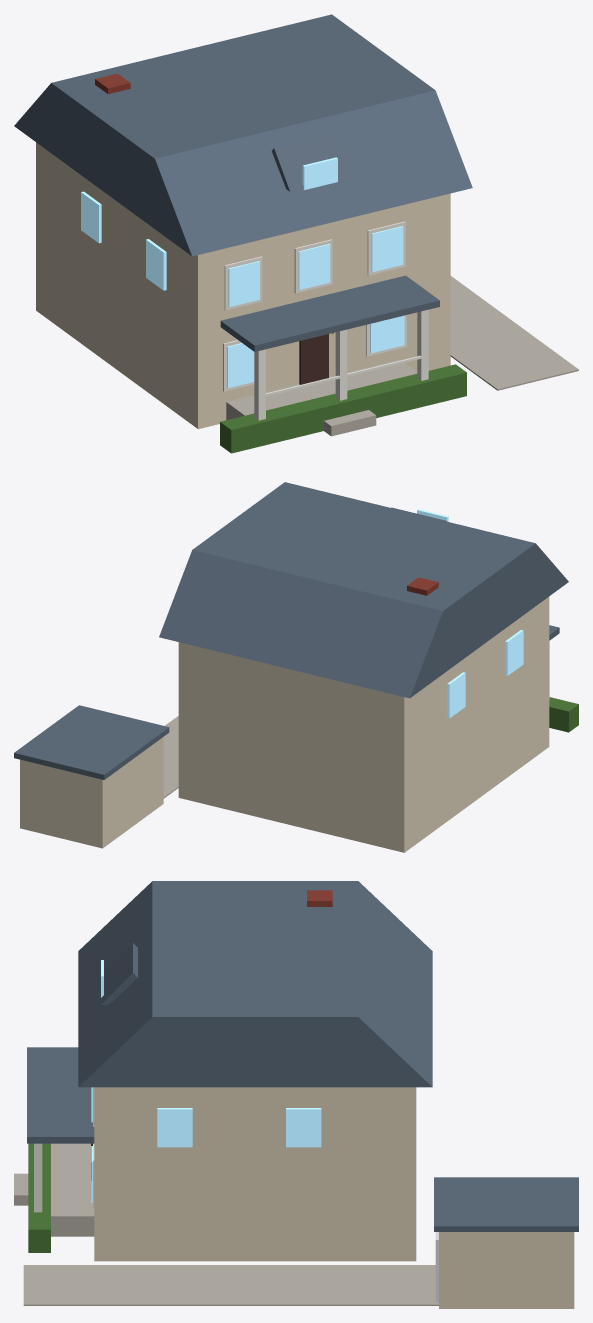
The model's file is town_mw_house.glb.
3 views of the same model, one above another, from view 1: azimuth 30°, elevation 25°; view 2: azimuth 150°, elevation 25°; view 3: azimuth 270°, elevation 25° (orthographic). The views are drawn at different scales.
Parts seen in each view (by area): view 1: TownMwHouse_body; view 2: TownMwHouse_body; view 3: TownMwHouse_body.
Boxes of the visible parts, x1=… form: TownMwHouse_body: x1=14, y1=14, x2=578, y2=453; TownMwHouse_body: x1=14, y1=482, x2=578, y2=852; TownMwHouse_body: x1=14, y1=881, x2=578, y2=1308.
Bounding box in the file's own units: 13.15 × 8.81 × 17.55.
